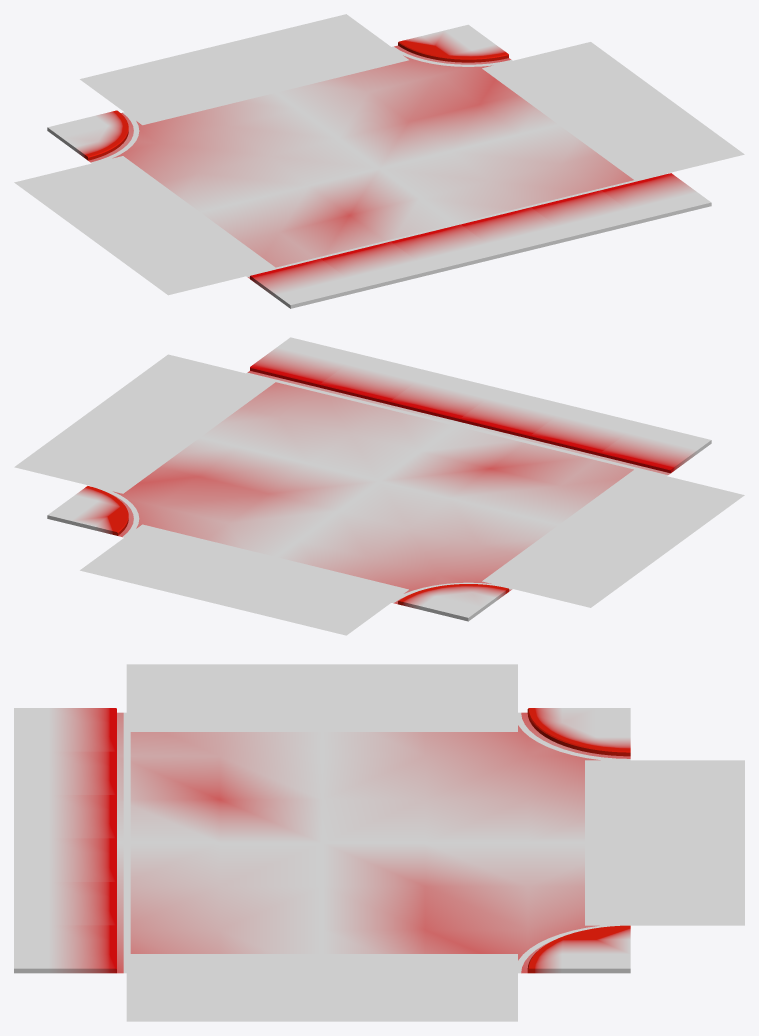
The model's file is Street_TIntersection.gltf.
3 views of the same model, one above another, from view 1: azimuth 30°, elevation 25°; view 2: azimuth 150°, elevation 25°; view 3: azimuth 270°, elevation 25° (orthographic). The views are drawn at different scales.
Parts seen in each view (by area): view 1: Street_TIntersection; view 2: Street_TIntersection; view 3: Street_TIntersection.
Boxes of the visible parts, x1,y1,x2,y2 form: Street_TIntersection: [14, 14, 744, 308]; Street_TIntersection: [14, 337, 744, 635]; Street_TIntersection: [14, 664, 744, 1021].
Size of the model in its own units: 24.67 by 0.15 by 21.33.
